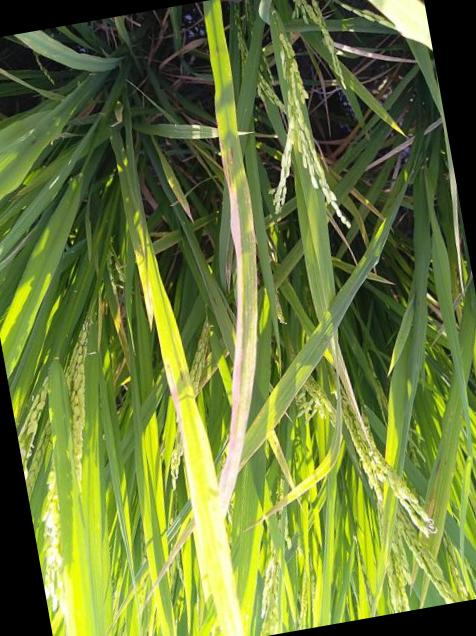Leaf Streak: (218, 145, 257, 511), (146, 509, 195, 599), (114, 301, 131, 369)
